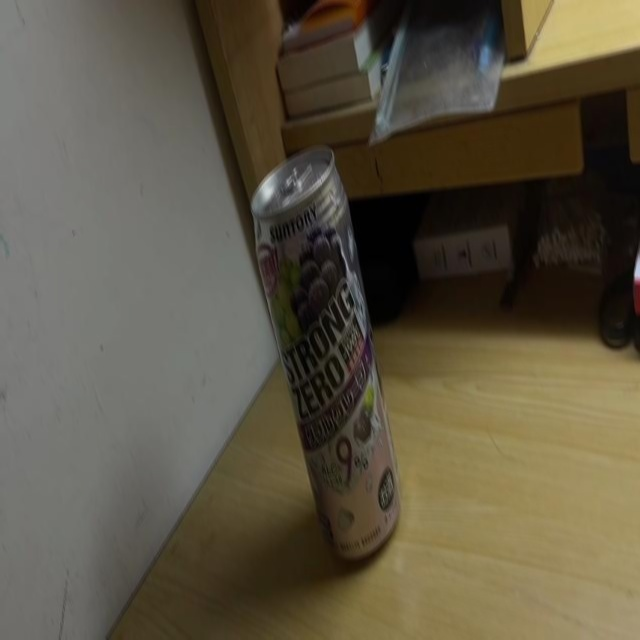Liquor: (252, 143, 402, 566)
